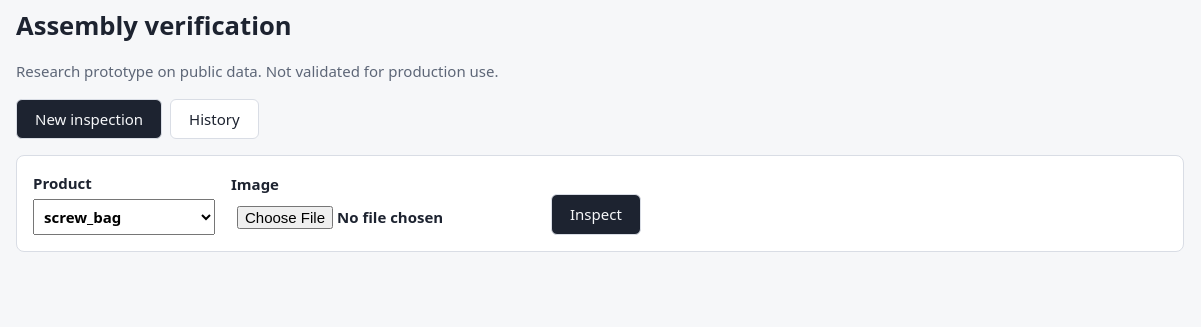
Test: App › explains a network failure instead of hanging
This screenshot has width=1201, height=327.
Earlier steps of the test are not shown.
Step 1. Click the button "Inspect" → (596, 215), box [551, 194, 641, 235]
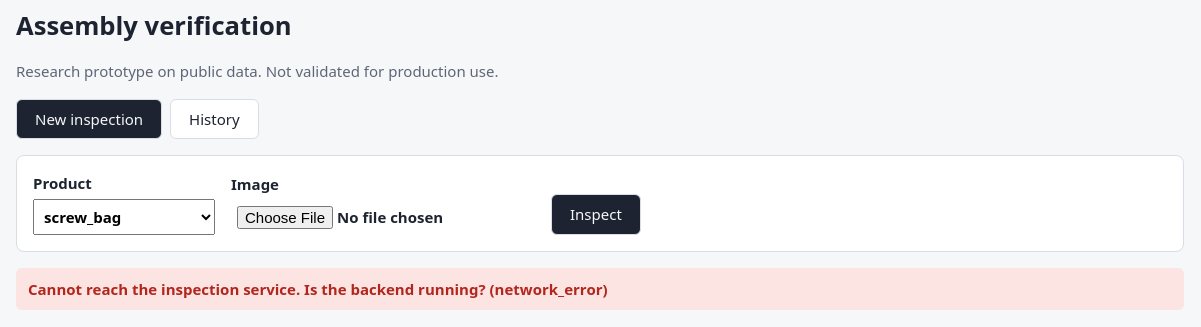
Result: the message shows "Cannot reach the inspection service" at [28, 279, 608, 299]
